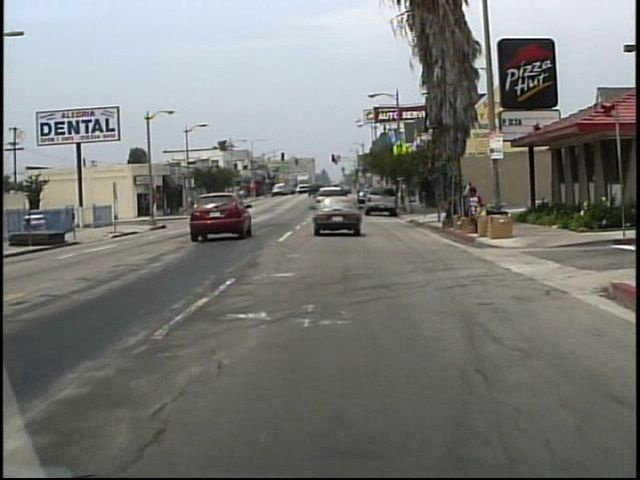person: (470, 181, 480, 212), (464, 182, 472, 208)
